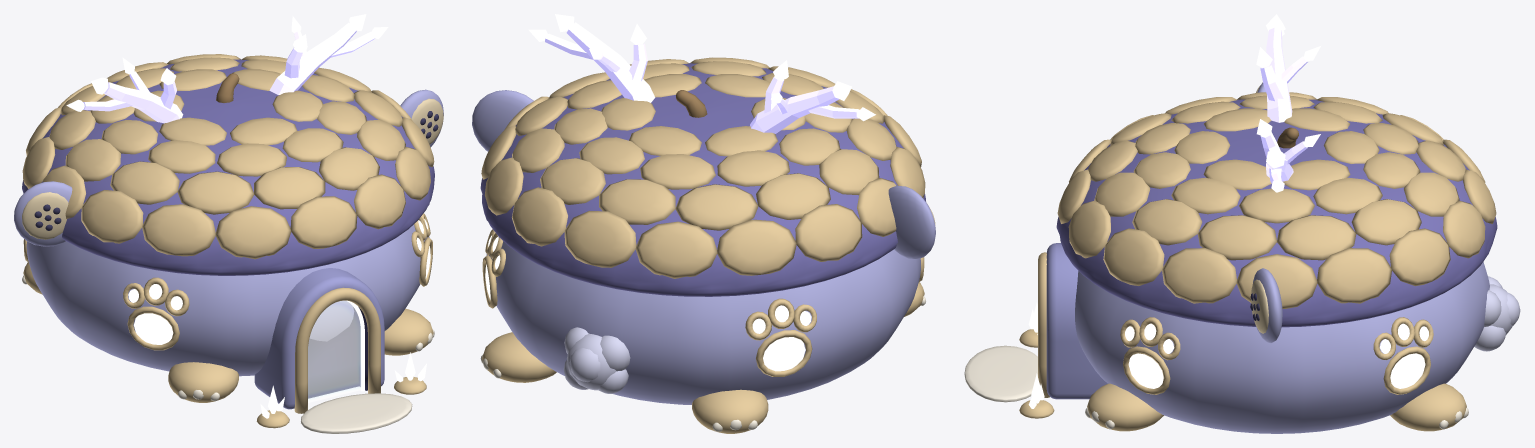
The model's file is house_04_0407.fbx.
3 renders of one model, left to right at view 1: azimuth 30°, elevation 25°; view 2: azimuth 150°, elevation 25°; view 3: azimuth 270°, elevation 25°, orthographic. The views are drawn at different scales.
Parts seen in each view (by area): view 1: House_AcornCap_Scales, House_Body, House_AcornCap, House_Entrance, House_CrystalAntlers, House_GlowMembrane, House_Paws, House_EntranceStep, House_DoorRim, House_PawWindows_Rim, House_EarVent_Inner, House_EarVent_Shell (+7 smaller); view 2: House_AcornCap_Scales, House_Body, House_AcornCap, House_CrystalAntlers, House_Paws, House_EarVent_Shell, House_Tail, House_PawWindows_Rim, House_PawWindows_Glow, House_AntlerGlowTips, House_CapStem; view 3: House_AcornCap_Scales, House_Body, House_AcornCap, House_Entrance, House_Paws, House_PawWindows_Rim, House_EntranceStep, House_CrystalAntlers, House_PawWindows_Glow, House_Tail, House_AntlerGlowTips, House_DoorRim (+3 smaller).
Part boxes in pixels (x1=…): House_AcornCap_Scales: x1=22, y1=54, x2=434, y2=259; House_Body: x1=26, y1=224, x2=429, y2=376; House_AcornCap: x1=22, y1=59, x2=434, y2=275; House_Entrance: x1=254, y1=268, x2=384, y2=409; House_CrystalAntlers: x1=83, y1=22, x2=375, y2=123; House_GlowMembrane: x1=308, y1=300, x2=360, y2=402; House_Paws: x1=23, y1=262, x2=433, y2=402; House_EntranceStep: x1=301, y1=393, x2=412, y2=433; House_DoorRim: x1=294, y1=287, x2=380, y2=413; House_PawWindows_Rim: x1=23, y1=213, x2=432, y2=350; House_EarVent_Inner: x1=22, y1=98, x2=443, y2=239; House_EarVent_Shell: x1=14, y1=89, x2=443, y2=246; House_AcornCap_Scales: x1=481, y1=57, x2=925, y2=278; House_Body: x1=486, y1=241, x2=920, y2=404; House_AcornCap: x1=480, y1=63, x2=925, y2=296; House_CrystalAntlers: x1=545, y1=22, x2=859, y2=133; House_Paws: x1=482, y1=282, x2=924, y2=433; House_EarVent_Shell: x1=472, y1=90, x2=935, y2=259; House_Tail: x1=563, y1=327, x2=630, y2=393; House_PawWindows_Rim: x1=482, y1=229, x2=924, y2=376; House_PawWindows_Glow: x1=485, y1=235, x2=811, y2=371; House_AntlerGlowTips: x1=528, y1=14, x2=875, y2=121; House_CapStem: x1=676, y1=90, x2=707, y2=117; House_AcornCap_Scales: x1=1057, y1=92, x2=1496, y2=308; House_Body: x1=1075, y1=262, x2=1489, y2=433; House_AcornCap: x1=1056, y1=99, x2=1497, y2=327; House_Entrance: x1=1046, y1=243, x2=1107, y2=399; House_Paws: x1=1087, y1=383, x2=1466, y2=431; House_PawWindows_Rim: x1=1120, y1=317, x2=1433, y2=394; House_EntranceStep: x1=964, y1=345, x2=1037, y2=402; House_CrystalAntlers: x1=1260, y1=28, x2=1307, y2=183; House_PawWindows_Glow: x1=1125, y1=323, x2=1428, y2=388; House_Tail: x1=1474, y1=276, x2=1520, y2=351; House_AntlerGlowTips: x1=1256, y1=14, x2=1320, y2=192; House_DoorRim: x1=1038, y1=252, x2=1049, y2=397.
Bounding box in the file's own units: 6.38 × 3.94 × 6.76.
